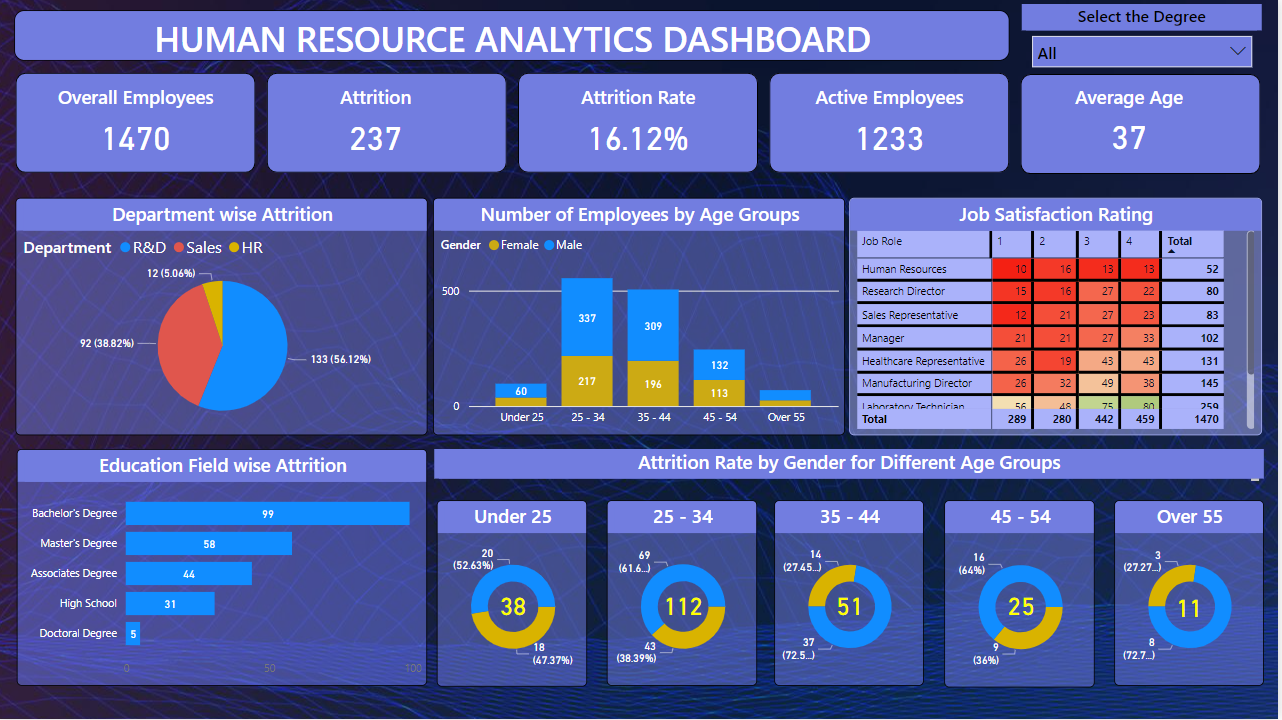

The page's visual inventory and layout, read from the dashboard file:
{"tool":"powerbi","page":{"name":"Analysis","canvas":[1280,720],"ordinal":0},"visuals":[{"type":"shape","box":[268.3,73.6,240,100],"z":0},{"type":"shape","box":[16.9,73.6,240,100.1],"z":1000},{"type":"card","title":"Overall Employees","fields":{"Values":["Sum(HR Data.Employee Count)"]},"box":[16.9,84.4,240,79.6],"z":2000},{"type":"card","title":"Attrition","fields":{"Values":["Sum(HR Data.Attrition Column)"]},"box":[256.9,84.4,240,79.6],"z":3000},{"type":"shape","box":[519.8,73.6,240,100],"z":4000},{"type":"card","title":"Attrition Rate","fields":{"Values":["Measure Table.Attrition Rate"]},"box":[519.8,84.4,240,79.6],"z":5000},{"type":"shape","box":[771.3,73.6,240,100],"z":6000},{"type":"card","title":"Active Employees","fields":{"Values":["Measure Table.Active Employees"]},"box":[771.9,84.4,240,79.6],"z":7000},{"type":"shape","box":[1022.7,74.8,240,100.1],"z":8000},{"type":"card","title":"Average Age","fields":{"Values":["Avg(HR Data.Age)"]},"box":[1022.7,84.4,217.1,77.2],"z":9000},{"type":"pieChart","title":" Department wise Attrition","fields":{"Category":["HR Data.Department"],"Y":["Sum(HR Data.Attrition Count)"]},"box":[17.1,198.9,412.1,237.3],"z":10000},{"type":"columnChart","title":"Number of Employees by Age Groups","fields":{"Y":["CountNonNull(HR Data.Employee Count)"],"Category":["HR Data.CF_age band"],"Series":["HR Data.Gender"]},"box":[435.5,198.9,412.1,237.3],"z":11000},{"type":"pivotTable","title":"Job Satisfaction Rating","fields":{"Values":["CountNonNull(HR Data.Employee Count)"],"Rows":["HR Data.Job Role"],"Columns":["HR Data.Job Satisfaction"]},"box":[851.5,199,412.5,237.6],"z":12000},{"type":"barChart","title":"Education Field wise Attrition","fields":{"Category":["HR Data.Education"],"Y":["Sum(HR Data.Attrition Count)"]},"box":[18.5,450.4,410.7,237],"z":13000},{"type":"donutChart","title":"Under 25","fields":{"Category":["HR Data.Gender"],"Y":["Sum(HR Data.Attrition Count)"],"Series":["HR Data.CF_age band"]},"box":[439.1,501.6,150.6,186.1],"z":14000},{"type":"textbox","title":"Attrition Rate by Gender for Different Age Groups","box":[436.2,450.4,829.8,36.9],"z":15000},{"type":"donutChart","title":"25 - 34","fields":{"Category":["HR Data.Gender"],"Y":["Sum(HR Data.Attrition Count)"],"Series":["HR Data.CF_age band"]},"box":[609,501.7,150.8,185.7],"z":16000},{"type":"donutChart","title":"35 - 44","fields":{"Category":["HR Data.Gender"],"Y":["Sum(HR Data.Attrition Count)"],"Series":["HR Data.CF_age band"]},"box":[776.7,501.7,149.5,185.7],"z":17000},{"type":"donutChart","title":"45 - 54","fields":{"Category":["HR Data.Gender"],"Y":["Sum(HR Data.Attrition Count)"],"Series":["HR Data.CF_age band"]},"box":[946.7,501.7,150.8,186.9],"z":18000},{"type":"donutChart","title":"Over 55","fields":{"Category":["HR Data.Gender"],"Y":["Sum(HR Data.Attrition Count)"],"Series":["HR Data.CF_age band"]},"box":[1116.8,501.7,149.5,185.7],"z":19000},{"type":"card","title":"Attrition","fields":{"Values":["Sum(HR Data.Attrition Column)"]},"box":[487.2,586.1,55.5,42.2],"z":20000},{"type":"card","title":"Attrition","fields":{"Values":["Sum(HR Data.Attrition Column)"]},"box":[650.1,586.1,69.9,42.2],"z":21000},{"type":"card","title":"Attrition","fields":{"Values":["Sum(HR Data.Attrition Column)"]},"box":[823.7,586.1,55.5,42.2],"z":22000},{"type":"card","title":"Attrition","fields":{"Values":["Sum(HR Data.Attrition Column)"]},"box":[995,586.1,56.7,42.2],"z":23000},{"type":"card","title":"Attrition","fields":{"Values":["Sum(HR Data.Attrition Column)"]},"box":[1163.8,587.3,54.3,42.2],"z":24000},{"type":"textbox","title":"HUMAN RESOURCE ANALYTICS DASHBOARD","box":[16.7,11.7,995,50],"z":25000},{"type":"slicer","title":"Select the Degree","fields":{"Values":["HR Data.Education"]},"box":[1023.3,5,240,63.3],"z":26000}]}

Visuals, with their boxes in screenshot pixels (x1, y1, x2, y2), scaled from the page's 1280x720 canvas onto the 1282x720 screenshot:
shape: bbox=(269, 74, 509, 174)
shape: bbox=(17, 74, 257, 174)
"Overall Employees" card: bbox=(17, 84, 257, 164)
"Attrition" card: bbox=(257, 84, 498, 164)
shape: bbox=(521, 74, 761, 174)
"Attrition Rate" card: bbox=(521, 84, 761, 164)
shape: bbox=(773, 74, 1013, 174)
"Active Employees" card: bbox=(773, 84, 1013, 164)
shape: bbox=(1024, 75, 1265, 175)
"Average Age" card: bbox=(1024, 84, 1242, 162)
" Department wise Attrition" pieChart: bbox=(17, 199, 430, 436)
"Number of Employees by Age Groups" columnChart: bbox=(436, 199, 849, 436)
"Job Satisfaction Rating" pivotTable: bbox=(853, 199, 1266, 437)
"Education Field wise Attrition" barChart: bbox=(19, 450, 430, 687)
"Under 25" donutChart: bbox=(440, 502, 591, 688)
"Attrition Rate by Gender for Different Age Groups" textbox: bbox=(437, 450, 1268, 487)
"25 - 34" donutChart: bbox=(610, 502, 761, 687)
"35 - 44" donutChart: bbox=(778, 502, 928, 687)
"45 - 54" donutChart: bbox=(948, 502, 1099, 689)
"Over 55" donutChart: bbox=(1119, 502, 1268, 687)
"Attrition" card: bbox=(488, 586, 544, 628)
"Attrition" card: bbox=(651, 586, 721, 628)
"Attrition" card: bbox=(825, 586, 881, 628)
"Attrition" card: bbox=(997, 586, 1053, 628)
"Attrition" card: bbox=(1166, 587, 1220, 630)
"HUMAN RESOURCE ANALYTICS DASHBOARD" textbox: bbox=(17, 12, 1013, 62)
"Select the Degree" slicer: bbox=(1025, 5, 1265, 68)
